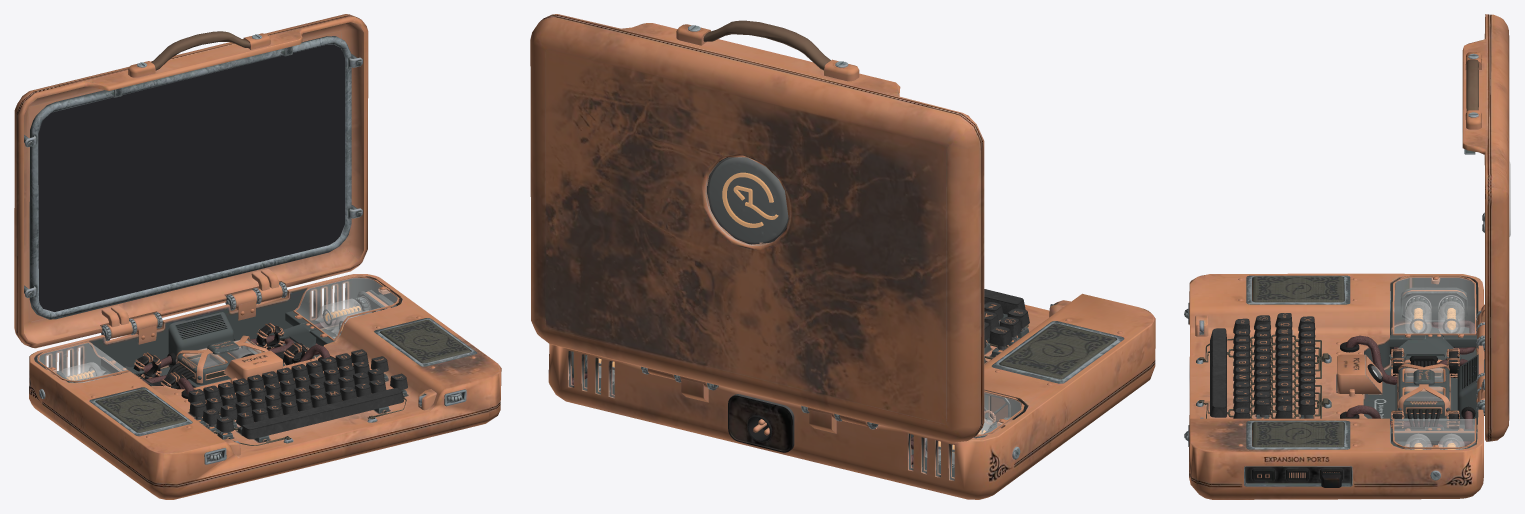
File: spark-computer.glb
3 views of the same model, side by side, from view 1: azimuth 30°, elevation 25°; view 2: azimuth 150°, elevation 25°; view 3: azimuth 270°, elevation 25° (orthographic). The views are drawn at different scales.
Visible parts, largest first — view 1: Object_16, SparkScreen, Object_8, Object_32, Object_474; view 2: Object_16, Object_474, Object_8, Object_32, Object_416; view 3: Object_16, Object_8, Object_32, Object_474, Object_416.
Boxes of the visible parts, x1,y1,x2,y2 form: Object_16: (14, 14, 501, 499); SparkScreen: (38, 44, 344, 311); Object_8: (24, 36, 471, 432); Object_32: (188, 349, 407, 445); Object_474: (37, 278, 397, 382); Object_16: (530, 14, 1155, 499); Object_474: (586, 157, 1021, 464); Object_8: (571, 323, 1116, 467); Object_32: (984, 289, 1029, 362); Object_416: (598, 172, 985, 452); Object_16: (1184, 14, 1509, 499); Object_8: (1252, 212, 1484, 449); Object_32: (1196, 313, 1331, 418); Object_474: (1371, 161, 1510, 449); Object_416: (1373, 308, 1455, 449).
Size of the model in its own units: 3.13 by 2.76 by 2.32.
7 materials, 6 textured.
